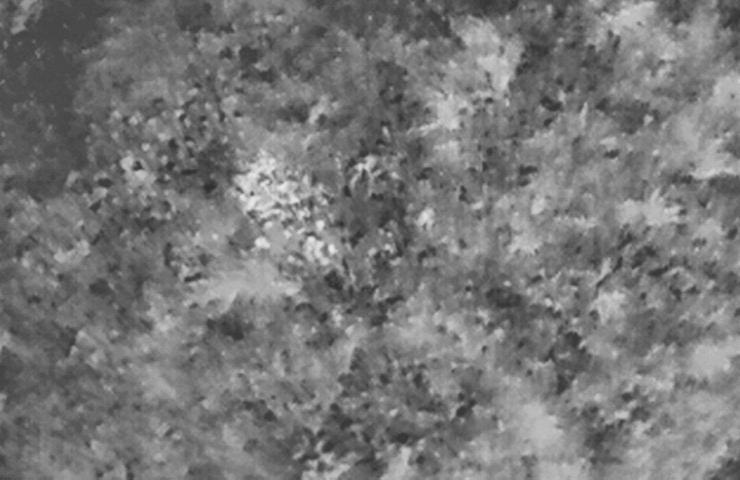landmines: (224, 144, 331, 232)
